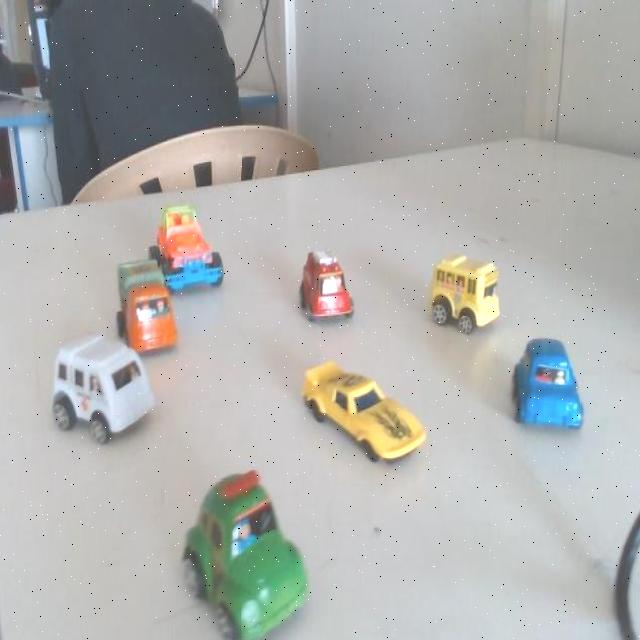car: (158, 462, 329, 640), (49, 314, 169, 464), (298, 351, 432, 474), (421, 252, 504, 347), (158, 196, 235, 294), (116, 251, 180, 365), (512, 339, 586, 436), (286, 240, 356, 340)
